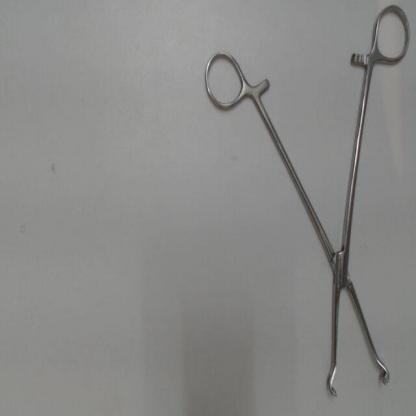8 Babcock Tissue Forceps: (198, 1, 416, 405)
